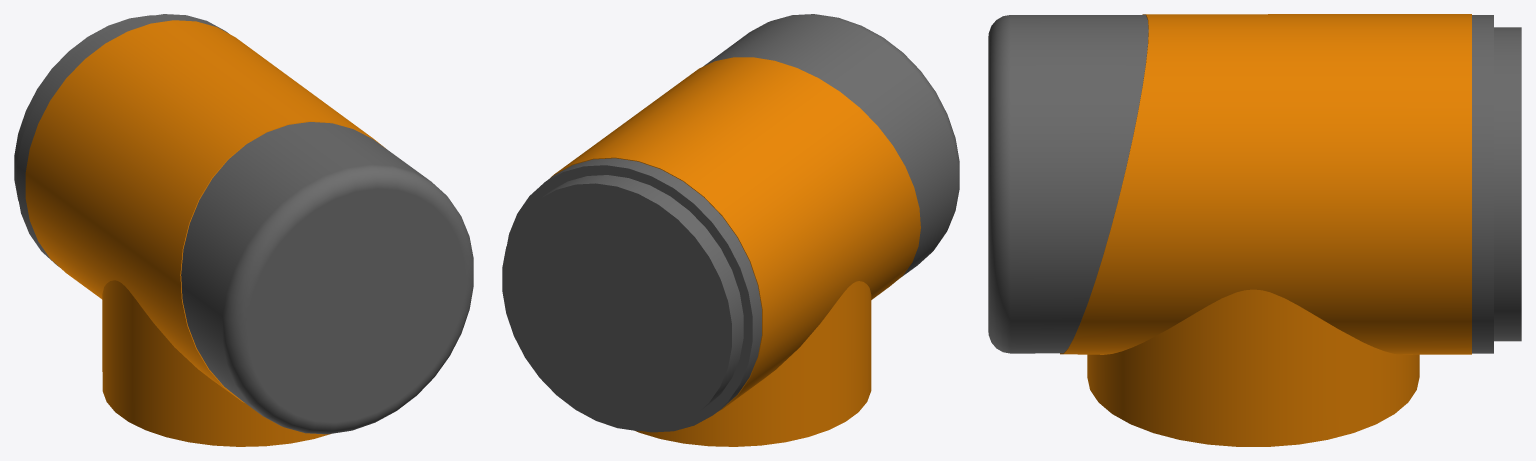
3 views of the same model, side by side, from view 1: azimuth 30°, elevation 25°; view 2: azimuth 150°, elevation 25°; view 3: azimuth 270°, elevation 25° (orthographic). The views are drawn at different scales.
Parts seen in each view (by area): view 1: NONE; view 2: NONE; view 3: NONE.
Boxes of the visible parts, <box> form: NONE: <box>14,14,473,446</box>; NONE: <box>502,14,959,446</box>; NONE: <box>988,14,1521,446</box>.
Bounding box in the file's own units: 0.077 × 0.1203 × 0.0865.
